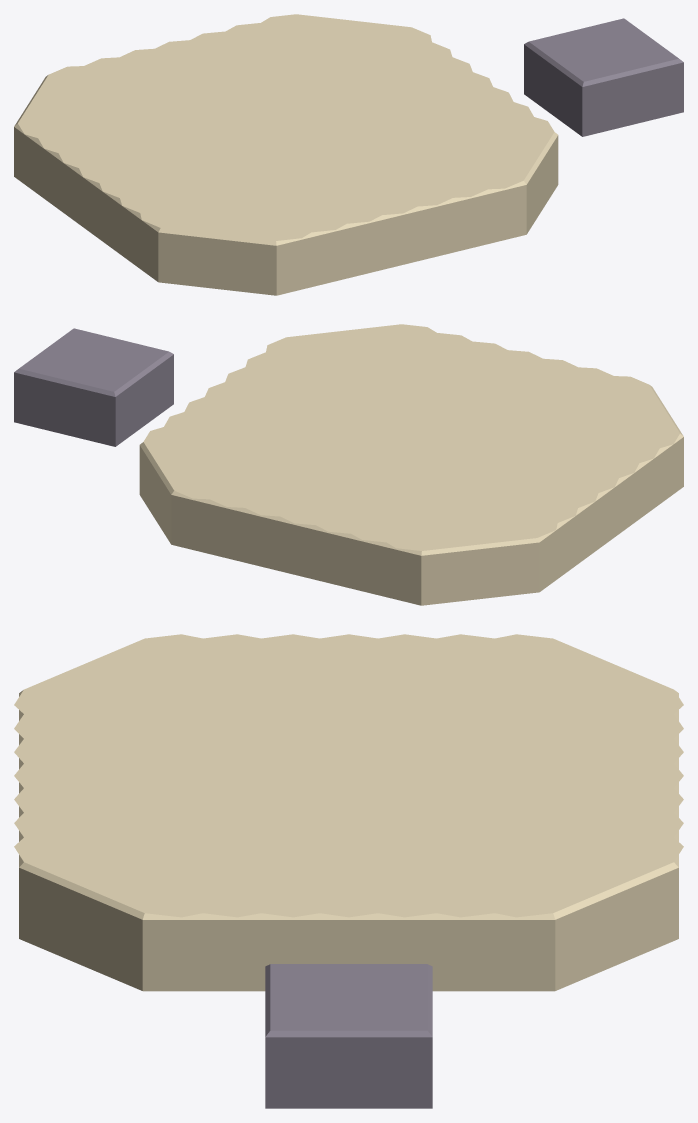
File: mahsulot.glb
3 renders of one model, top to bottom at view 1: azimuth 30°, elevation 25°; view 2: azimuth 150°, elevation 25°; view 3: azimuth 270°, elevation 25°, orthographic. The views are drawn at different scales.
Parts seen in each view (by area): view 1: mahsulot_A, mahsulot_B; view 2: mahsulot_A, mahsulot_B; view 3: mahsulot_A, mahsulot_B.
Part boxes in pixels (<box>): mahsulot_A: <box>14,14,558,295</box>; mahsulot_B: <box>524,18,683,136</box>; mahsulot_A: <box>139,324,683,605</box>; mahsulot_B: <box>14,328,173,446</box>; mahsulot_A: <box>14,634,683,991</box>; mahsulot_B: <box>265,964,432,1108</box>.
Size of the model in its own units: 0.2815 by 0.025 by 0.2.
